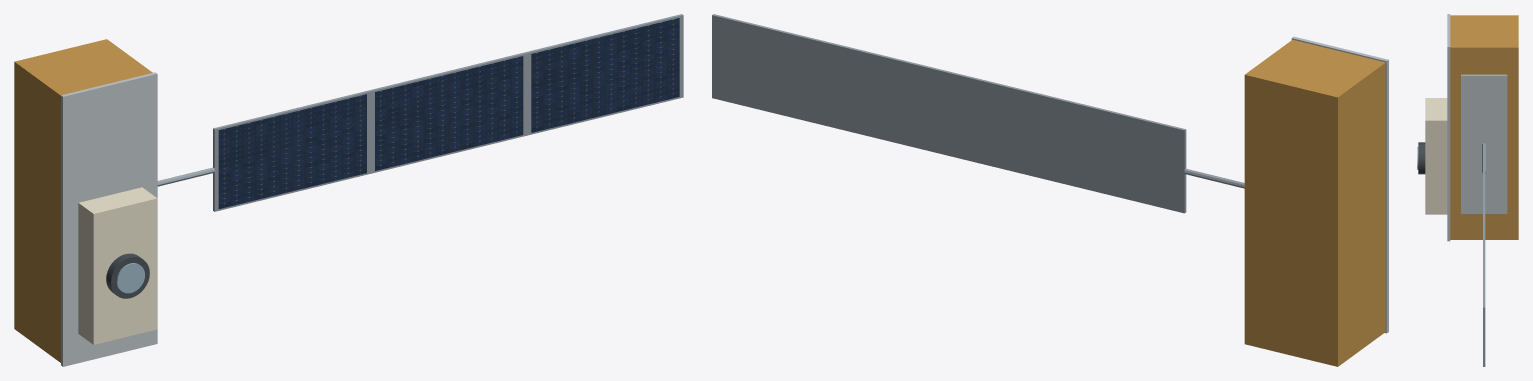
Rendered from aura.glb.
3 views of the same model, side by side, from view 1: azimuth 30°, elevation 25°; view 2: azimuth 150°, elevation 25°; view 3: azimuth 270°, elevation 25° (orthographic). The views are drawn at different scales.
Visible parts, largest first — view 1: Photovoltaic laminates (×3), Equipment module, Payload deck, Instrument housing, Array frame (×3), Optical baffle, Optical aperture; view 2: Equipment module, Array frame (×3), Payload deck; view 3: Equipment module, Thermal radiator, Instrument housing, Payload deck, Array frame (×3), Optical baffle.
Boxes of the visible parts, x1=… form: Photovoltaic laminates (×3): x1=218, y1=18, x2=679, y2=209; Equipment module: x1=14, y1=39, x2=152, y2=362; Payload deck: x1=61, y1=72, x2=157, y2=366; Instrument housing: x1=78, y1=187, x2=157, y2=344; Array frame (×3): x1=213, y1=14, x2=683, y2=211; Optical baffle: x1=106, y1=253, x2=149, y2=298; Optical aperture: x1=116, y1=263, x2=144, y2=293; Equipment module: x1=1244, y1=39, x2=1385, y2=366; Array frame (×3): x1=712, y1=14, x2=1186, y2=213; Payload deck: x1=1291, y1=36, x2=1388, y2=333; Equipment module: x1=1450, y1=15, x2=1518, y2=239; Thermal radiator: x1=1461, y1=74, x2=1507, y2=213; Instrument housing: x1=1425, y1=98, x2=1447, y2=214; Payload deck: x1=1447, y1=14, x2=1450, y2=241; Array frame (×3): x1=1483, y1=143, x2=1485, y2=366; Optical baffle: x1=1418, y1=142, x2=1425, y2=174.
Bounding box in the file's own units: 17.42 × 6.97 × 3.3.
Materials: 7 (1 with a texture image).
